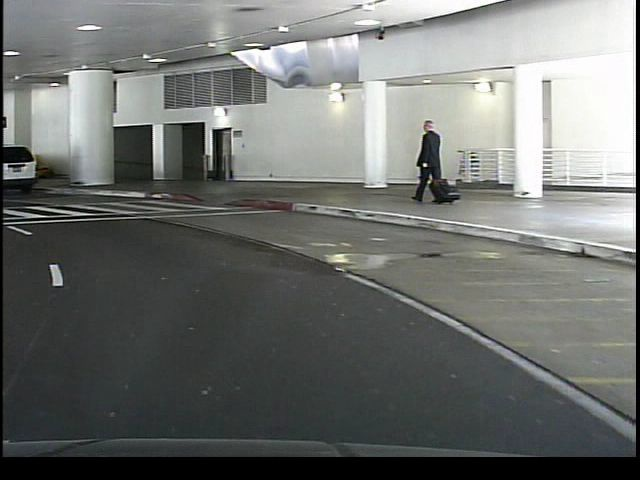person: (407, 118, 446, 206)
